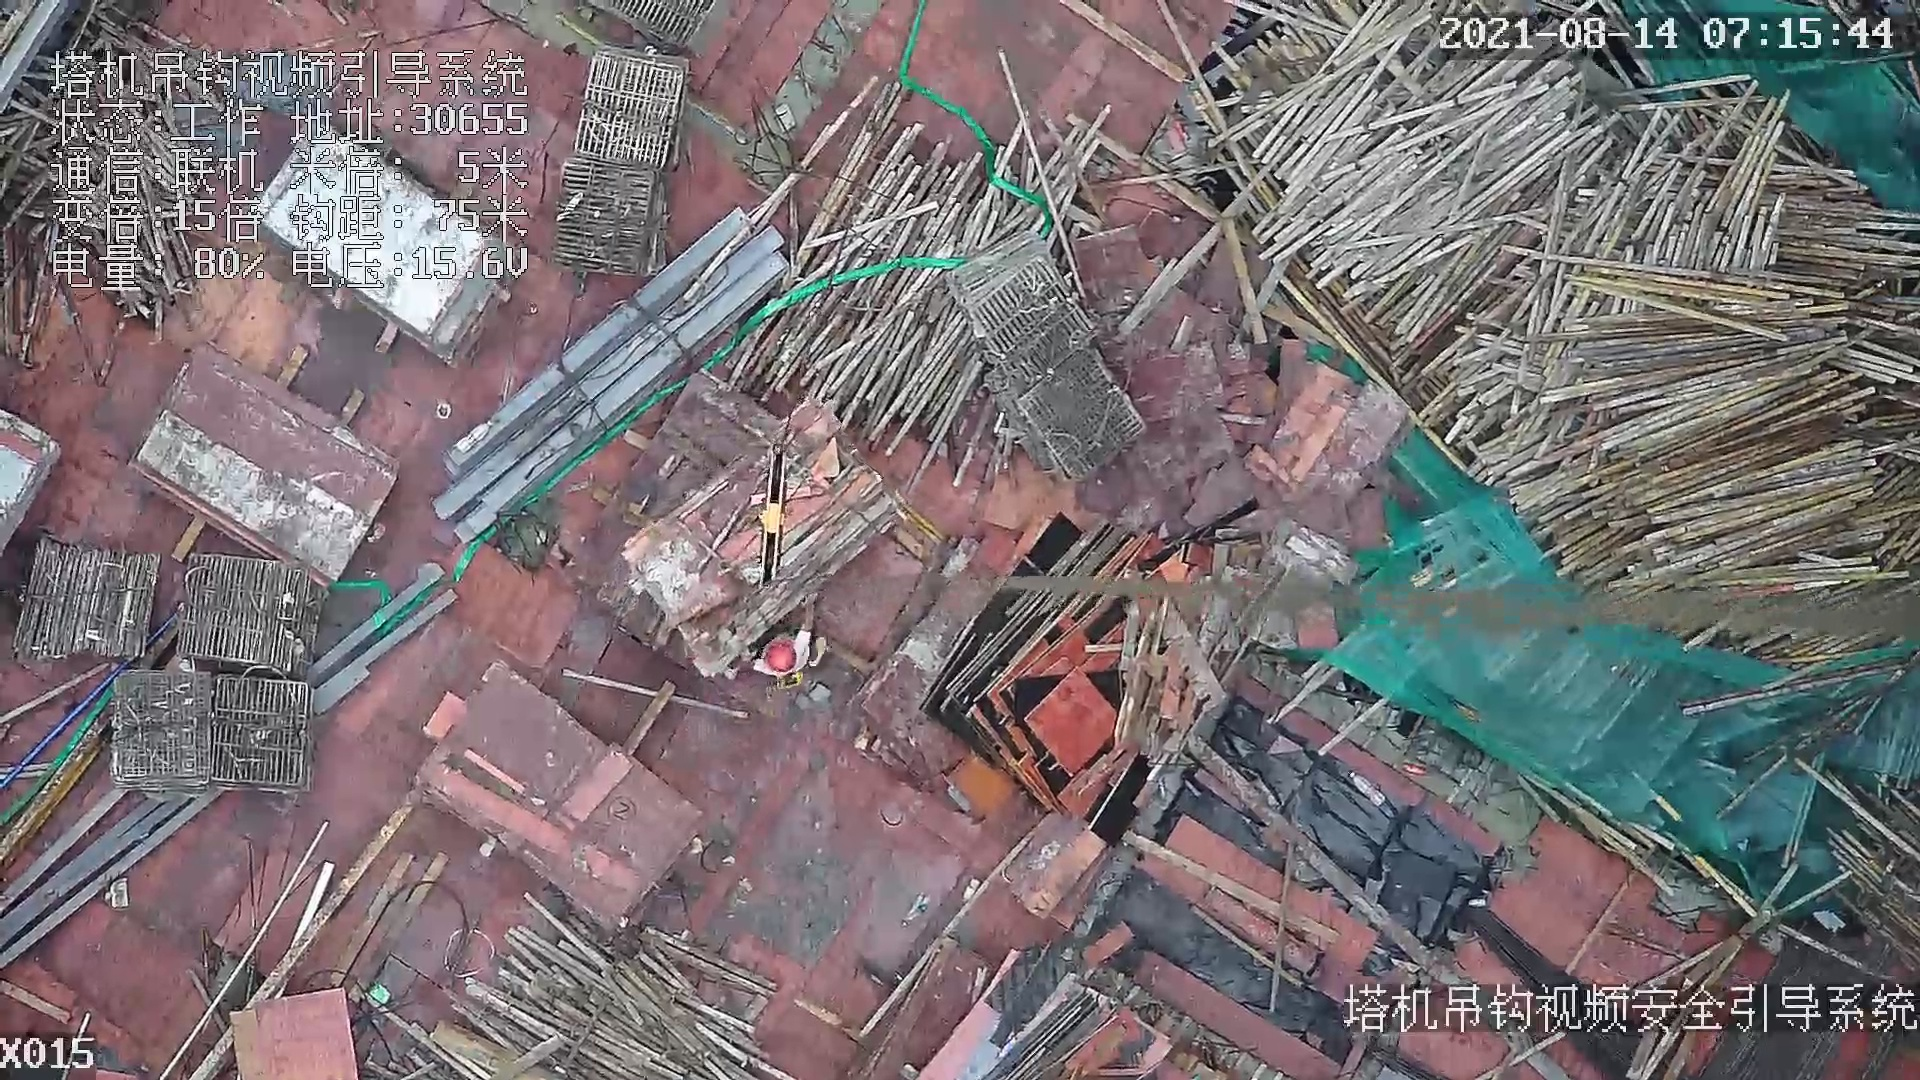helmet: (763, 638, 795, 675)
hook: (747, 445, 788, 587)
person: (723, 609, 831, 681)
